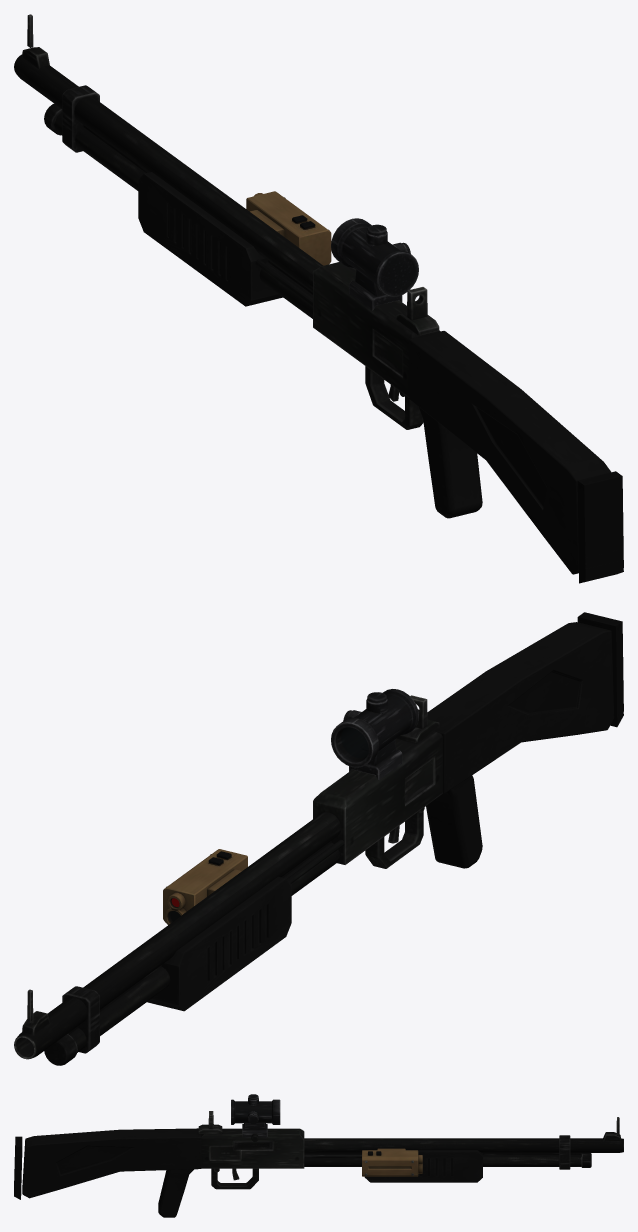
The model's file is shotgun.glb.
3 views of the same model, one above another, from view 1: azimuth 30°, elevation 25°; view 2: azimuth 150°, elevation 25°; view 3: azimuth 270°, elevation 25° (orthographic). The views are drawn at different scales.
Parts seen in each view (by area): view 1: body, red_dot, laser, rear_sight; view 2: body, red_dot, laser, rear_sight, rd_lens_r; view 3: body, laser, red_dot, rear_sight.
Boxes of the visible parts, x1,y1,x2,y2 form: body: (14,14,623,583); red_dot: (331,218,418,310); laser: (246,191,331,265); rear_sight: (396,287,439,335); body: (14,612,623,1065); red_dot: (331,689,418,780); laser: (163,849,247,924); rear_sight: (396,695,439,743); rd_lens_r: (341,727,368,757); body: (14,1117,623,1217); laser: (362,1148,422,1176); red_dot: (231,1094,280,1141); rear_sight: (198,1111,222,1133).
Size of the model in its own units: 0.0777 by 0.2078 by 0.9699.
Materials: 7 (3 with a texture image).
